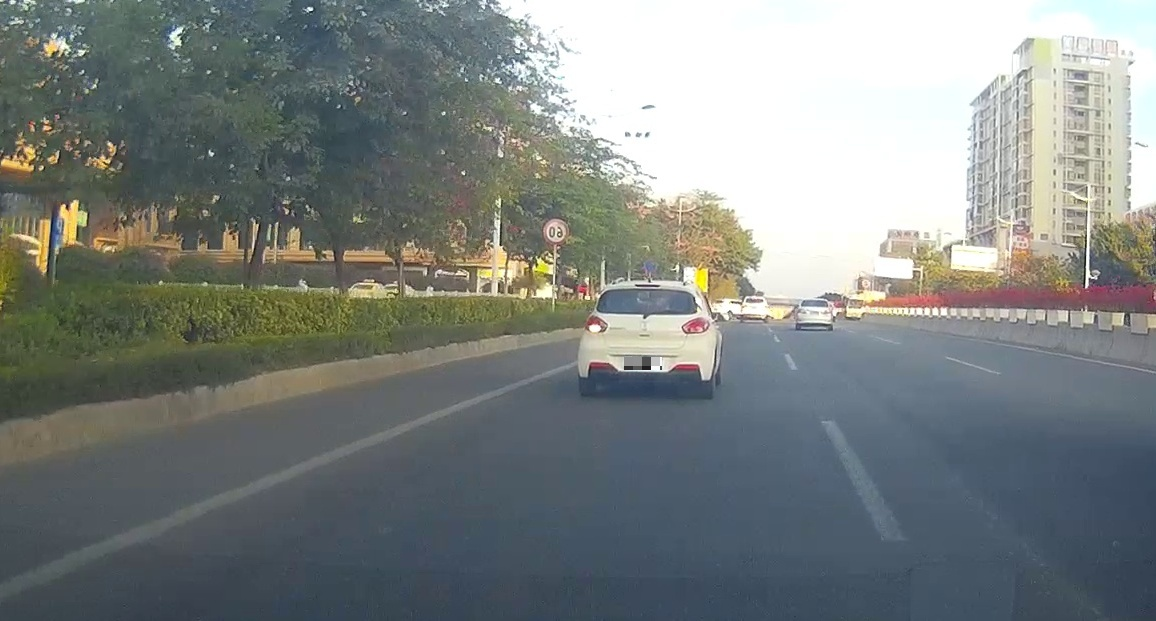L_light: (583, 314, 609, 333), (797, 308, 807, 315)
R_light: (681, 316, 711, 334), (820, 309, 832, 315)
T_light: (633, 283, 660, 288), (811, 298, 819, 301)
day-left: (576, 280, 716, 398)
day-no: (796, 298, 833, 332)
plate_1: (624, 357, 662, 370)
